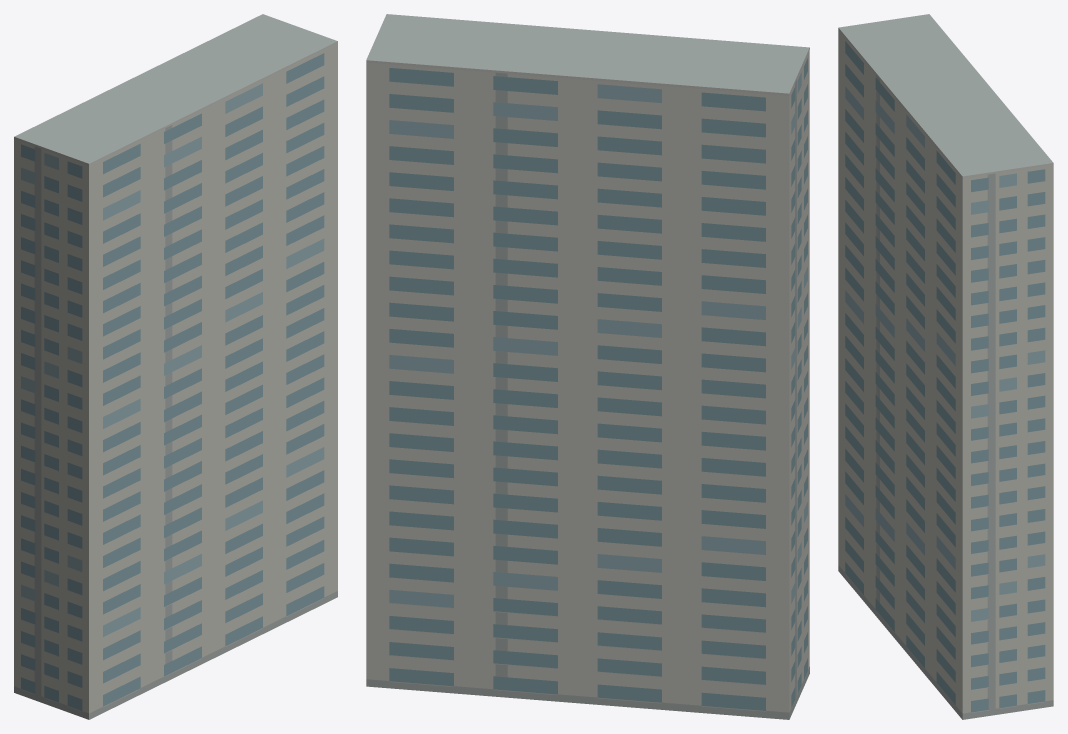
File: residential-695097e0-f3da-4404-a119-d3c7c92820fa.glb
3 renders of one model, left to right at view 1: azimuth 30°, elevation 25°; view 2: azimuth 150°, elevation 25°; view 3: azimuth 270°, elevation 25°, orthographic. The views are drawn at different scales.
Visible parts, largest first — view 1: residential-695097e0-f3da-4404-a119-d3c7c92820fa.tmp; view 2: residential-695097e0-f3da-4404-a119-d3c7c92820fa.tmp; view 3: residential-695097e0-f3da-4404-a119-d3c7c92820fa.tmp.
Boxes of the visible parts, x1,y1,x2,y2 form: residential-695097e0-f3da-4404-a119-d3c7c92820fa.tmp: (14,14,337,719); residential-695097e0-f3da-4404-a119-d3c7c92820fa.tmp: (366,14,809,719); residential-695097e0-f3da-4404-a119-d3c7c92820fa.tmp: (838,14,1053,719).
Size of the model in its own units: 43.61 by 68 by 24.41.
